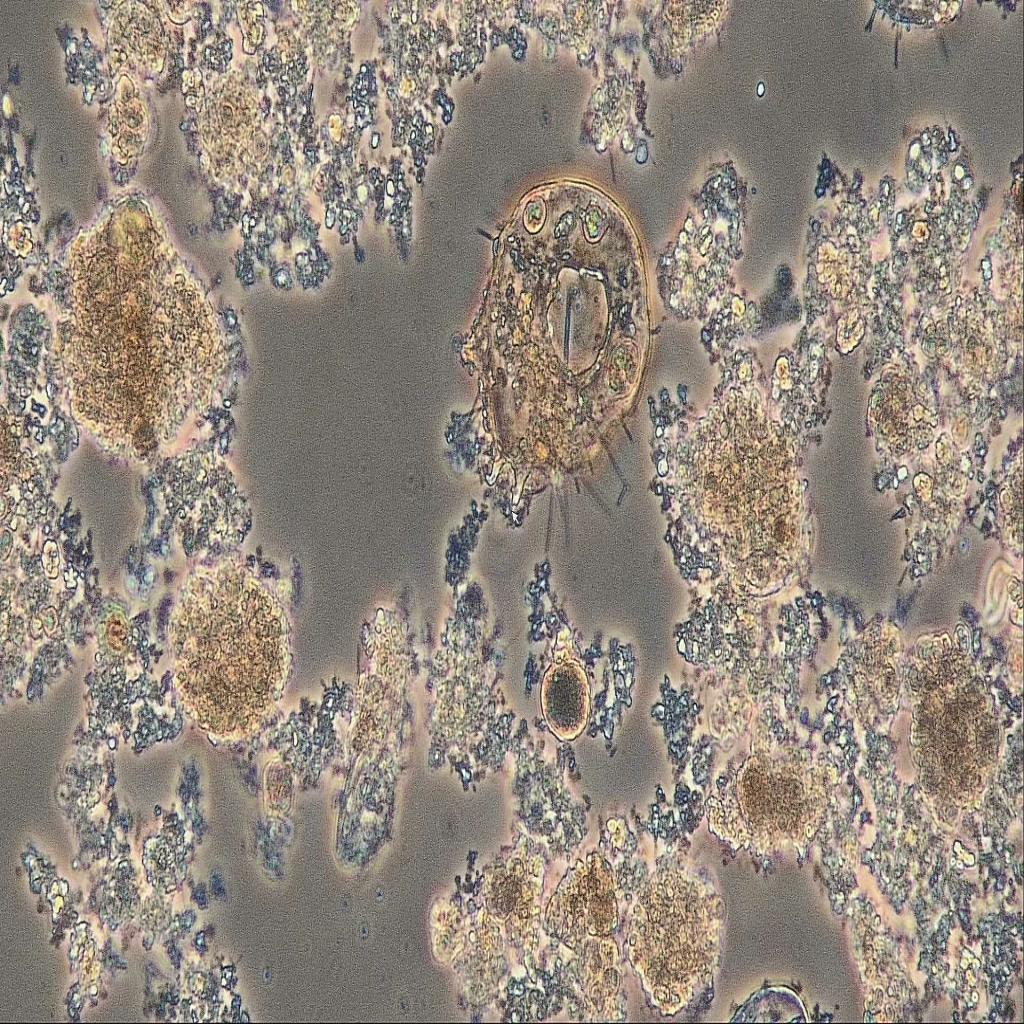Arcella: (452, 146, 688, 543)
